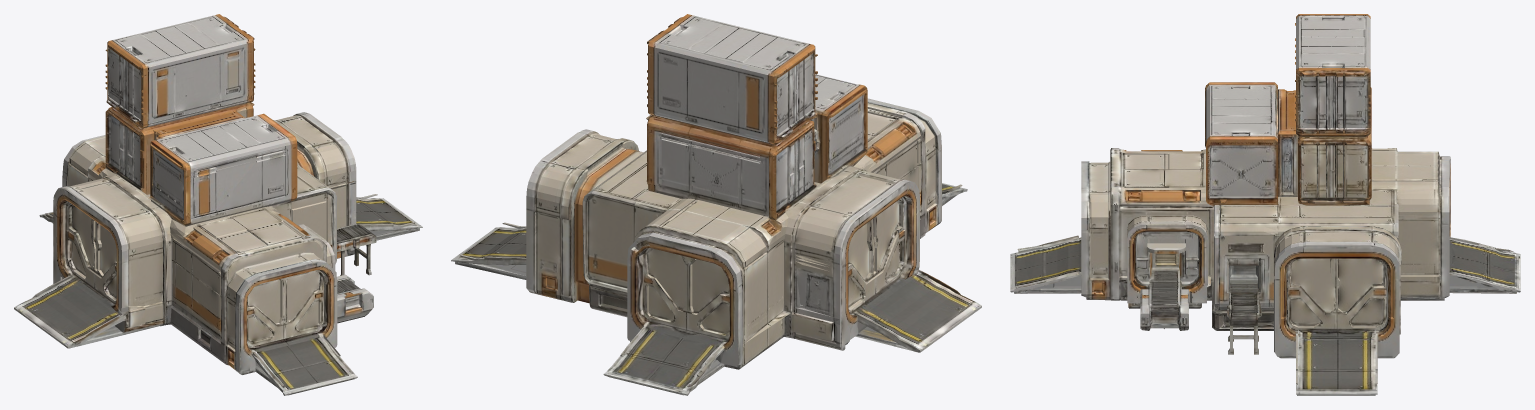
The model's file is warehouse.glb.
3 views of the same model, side by side, from view 1: azimuth 30°, elevation 25°; view 2: azimuth 150°, elevation 25°; view 3: azimuth 270°, elevation 25° (orthographic). The views are drawn at different scales.
Visible parts, largest first — view 1: tripo_node_35fcc60f-217b-4b2f-a301-9741279f96a3; view 2: tripo_node_35fcc60f-217b-4b2f-a301-9741279f96a3; view 3: tripo_node_35fcc60f-217b-4b2f-a301-9741279f96a3.
Boxes of the visible parts, box(x1,y1,x2,y2) form: tripo_node_35fcc60f-217b-4b2f-a301-9741279f96a3: box(14, 14, 422, 395); tripo_node_35fcc60f-217b-4b2f-a301-9741279f96a3: box(451, 14, 981, 395); tripo_node_35fcc60f-217b-4b2f-a301-9741279f96a3: box(1010, 14, 1520, 395).
Bounding box in the file's own units: 0.9184 × 0.5228 × 1.
Materials: 1 (1 with a texture image).
